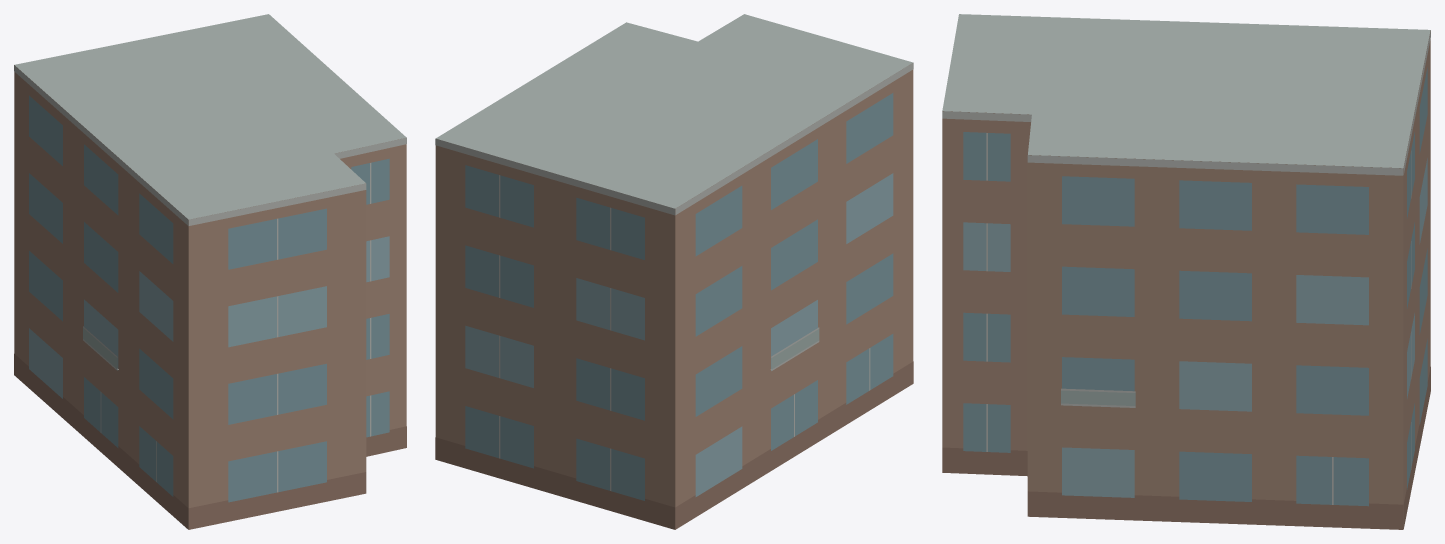
Rendered from survey-upis-32910115.glb.
The picture shows the model from 3 angles, left to right: view 1: azimuth 30°, elevation 25°; view 2: azimuth 150°, elevation 25°; view 3: azimuth 270°, elevation 25°; orthographic projection. The views are drawn at different scales.
Visible parts, largest first — view 1: survey-upis-32910115.tmp; view 2: survey-upis-32910115.tmp; view 3: survey-upis-32910115.tmp.
Boxes of the visible parts, x1=… form: survey-upis-32910115.tmp: x1=14, y1=14, x2=406, y2=529; survey-upis-32910115.tmp: x1=435, y1=14, x2=913, y2=529; survey-upis-32910115.tmp: x1=942, y1=14, x2=1430, y2=529.
Size of the model in its own units: 10.61 by 11.6 by 14.21.
